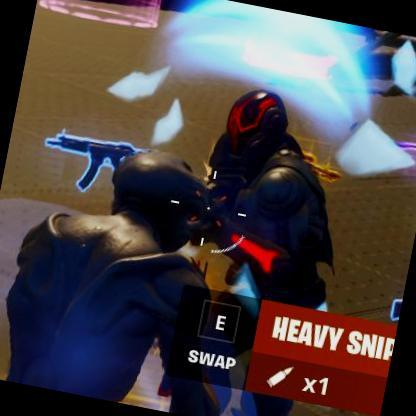person: (183, 89, 366, 313), (243, 392, 299, 416)
